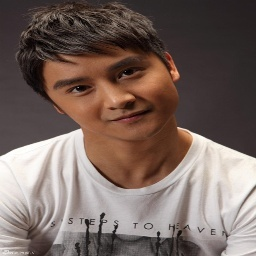noWear: (51, 47, 179, 141)
